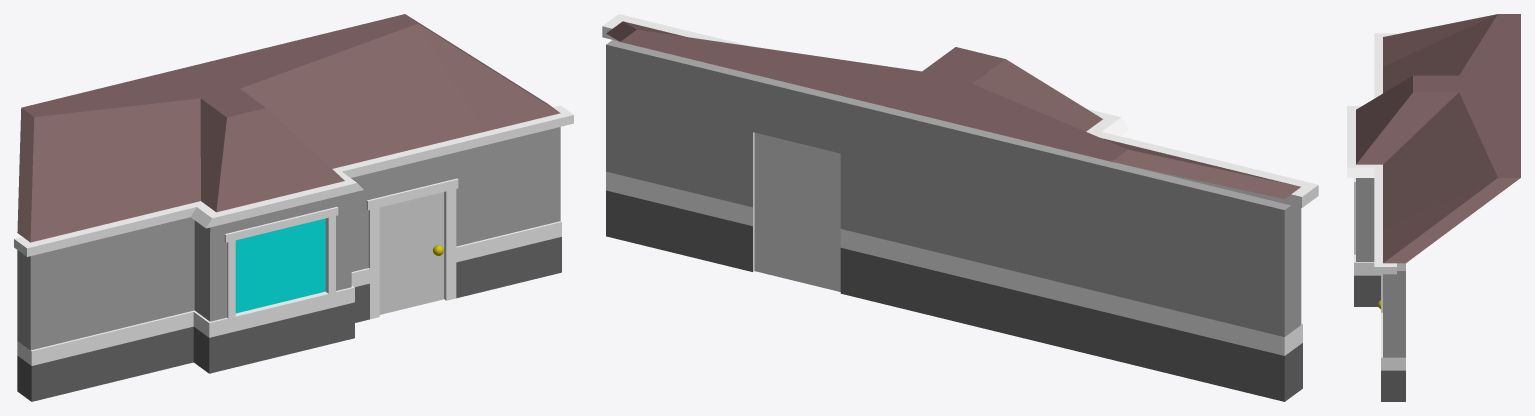
Rendered from houseWIP3.fbx.
The picture shows the model from 3 angles, left to right: view 1: azimuth 30°, elevation 25°; view 2: azimuth 150°, elevation 25°; view 3: azimuth 270°, elevation 25°; orthographic projection. The views are drawn at different scales.
Parts seen in each view (by area): view 1: Cube, Cube.001; view 2: Cube, Cube.001; view 3: Cube.
Boxes of the visible parts, left/top/right/bottom form: Cube: left=14, top=14, right=573, bottom=401; Cube.001: left=379, top=192, right=443, bottom=314; Cube: left=602, top=14, right=1318, bottom=401; Cube.001: left=754, top=132, right=840, bottom=291; Cube: left=1347, top=14, right=1520, bottom=401.
Size of the model in its own units: 7434 by 2842 by 2340.
